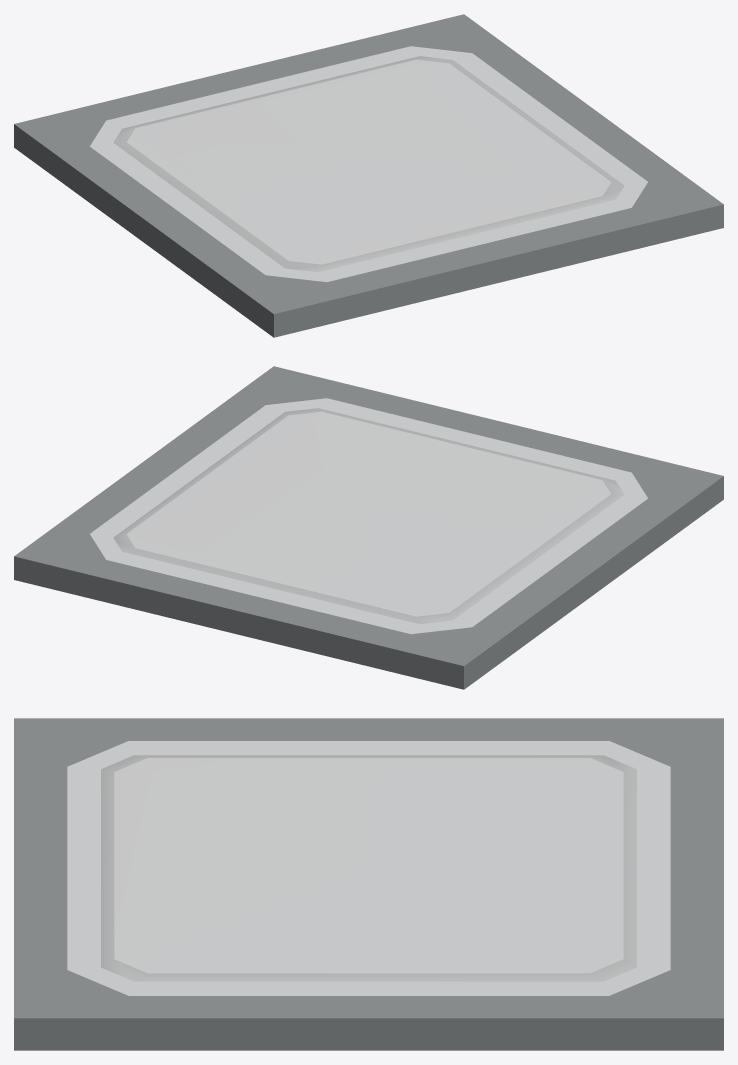
The model's file is Platform_002.fbx.
3 views of the same model, one above another, from view 1: azimuth 30°, elevation 25°; view 2: azimuth 150°, elevation 25°; view 3: azimuth 270°, elevation 25° (orthographic). The views are drawn at different scales.
Visible parts, largest first — view 1: Platform_002; view 2: Platform_002; view 3: Platform_002.
Boxes of the visible parts, x1,y1,x2,y2 form: Platform_002: (14,14,723,337); Platform_002: (14,366,723,689); Platform_002: (14,718,723,1050).
Bounding box in the file's own units: 400 × 400 × 23.45.
